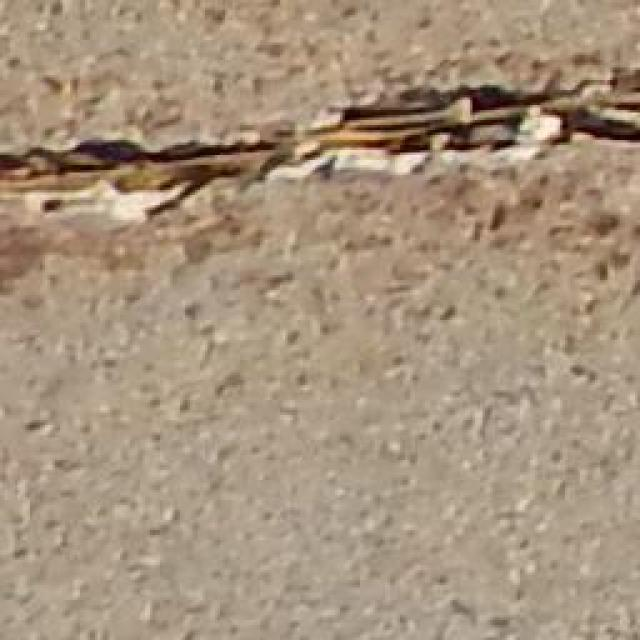concrete-crack: (0, 67, 640, 220)
